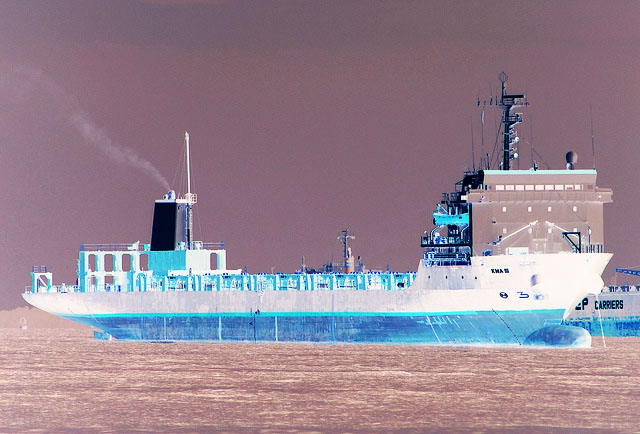container_ship: (22, 73, 612, 348)
